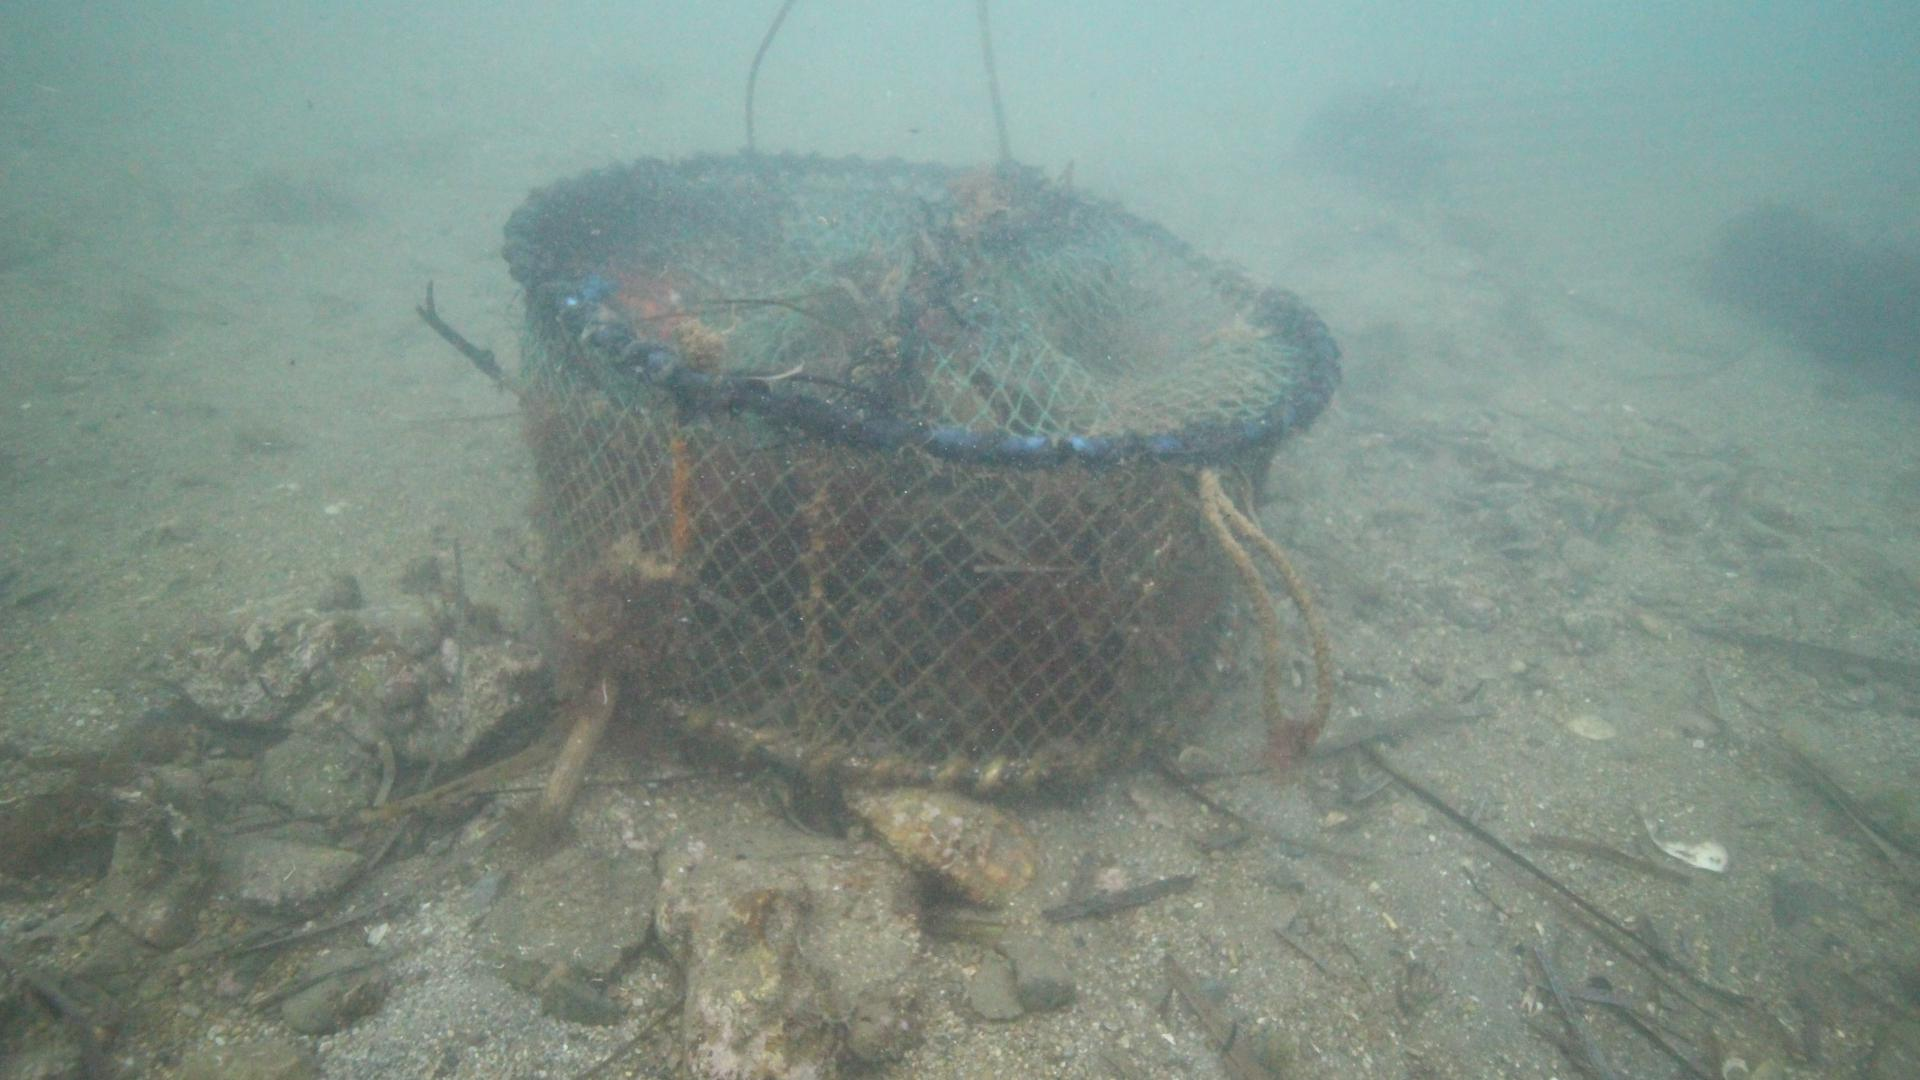circular fish trap: (495, 146, 1344, 794)
rope: (1196, 459, 1335, 762)
